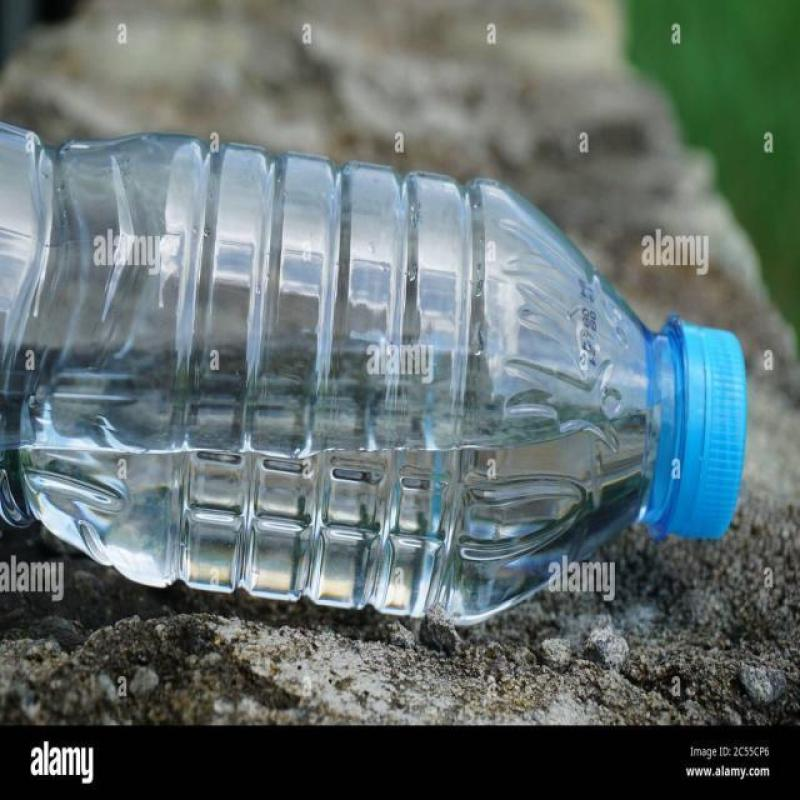botella: (0, 118, 749, 630)
